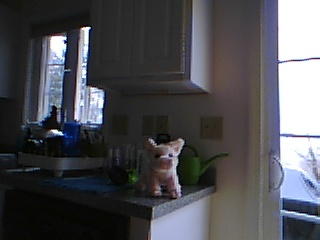piggy: (134, 136, 186, 199)
